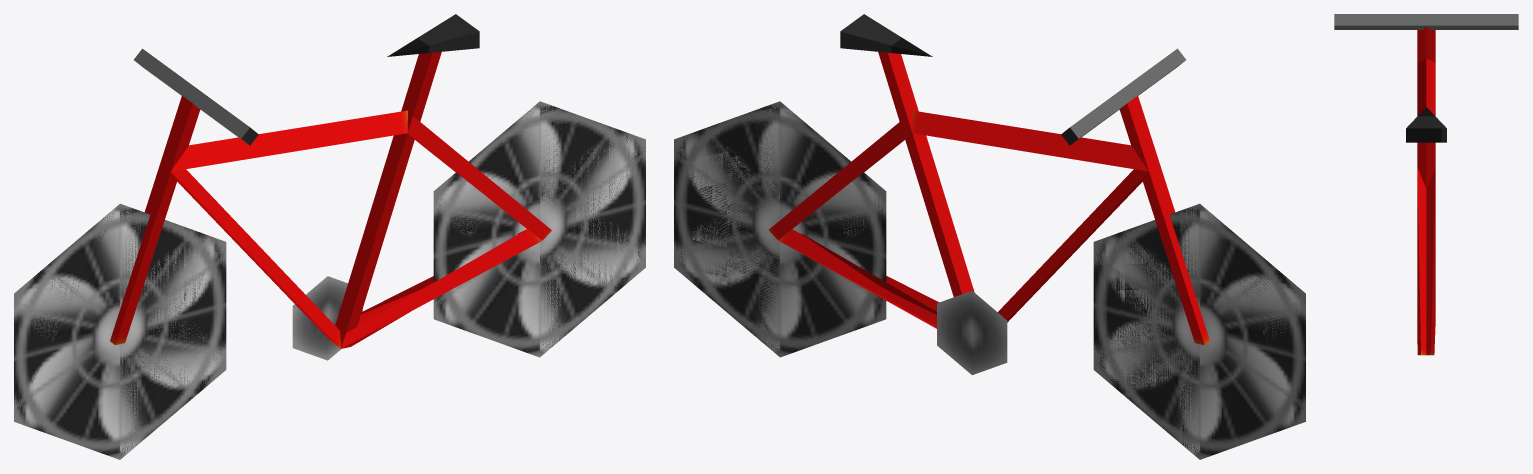
File: Bicycle.fbx
The picture shows the model from 3 angles, left to right: view 1: azimuth 30°, elevation 25°; view 2: azimuth 150°, elevation 25°; view 3: azimuth 270°, elevation 25°; orthographic projection. The views are drawn at different scales.
Parts seen in each view (by area): view 1: Bicycle_1; view 2: Bicycle_1; view 3: Bicycle_1.
Boxes of the visible parts, bbox=[...] form: Bicycle_1: bbox=[14, 14, 645, 459]; Bicycle_1: bbox=[674, 14, 1305, 459]; Bicycle_1: bbox=[1334, 14, 1518, 355].
Bounding box in the file's own units: 132 × 70.5 × 38.93.
